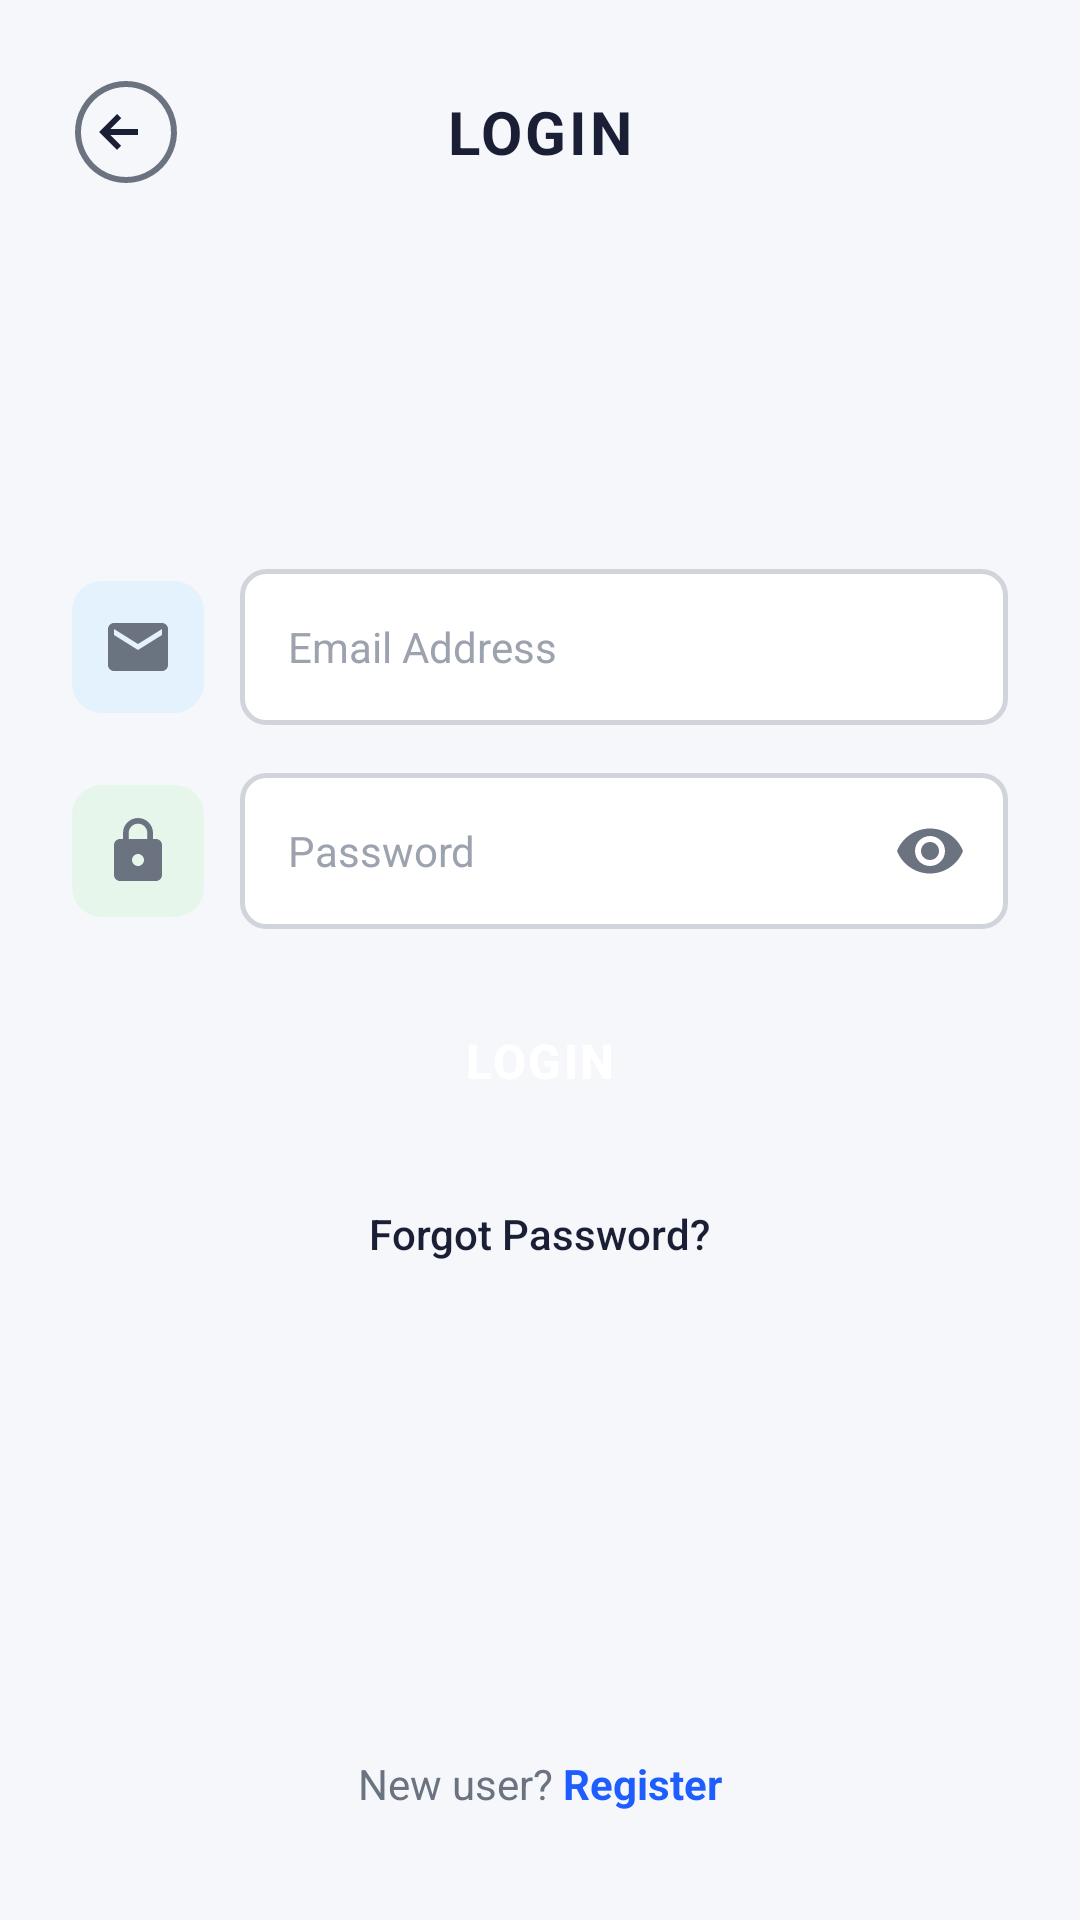

Screen size 1080w x 1920h. Icon name, then its center in pixels as (x=x, y=y):
Back: (x=126, y=132)
